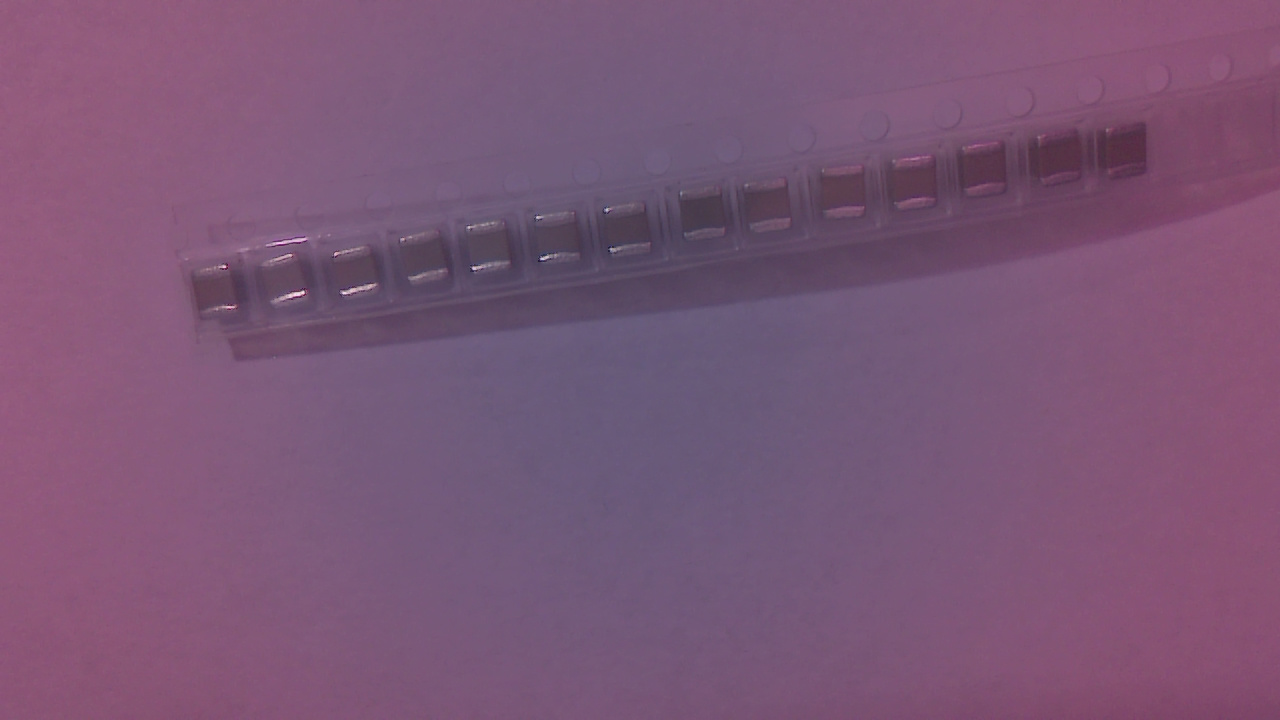Condensator: (1033, 131, 1088, 192), (680, 187, 733, 250), (401, 231, 452, 294), (823, 168, 875, 228), (264, 253, 312, 317), (745, 181, 794, 241), (337, 248, 386, 308), (606, 203, 654, 264), (894, 160, 942, 219), (1104, 129, 1152, 186), (962, 147, 1010, 203), (538, 213, 585, 270), (471, 225, 517, 280), (199, 264, 240, 325)
